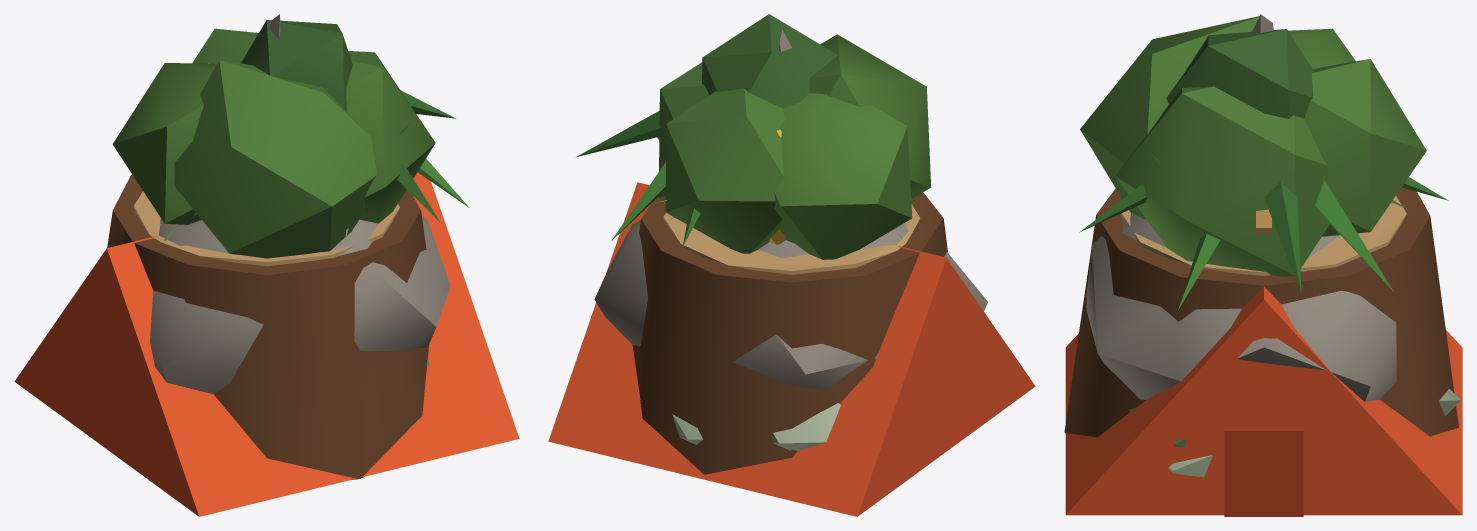
Rendered from scenery-low.glb.
3 views of the same model, side by side, from view 1: azimuth 30°, elevation 25°; view 2: azimuth 150°, elevation 25°; view 3: azimuth 270°, elevation 25° (orthographic). The views are drawn at different scales.
Visible parts, largest first — view 1: oak, tent, stump, rock, palm; view 2: oak, stump, tent, rock, palm, sage; view 3: oak, tent, stump, rock, palm, sage.
Part boxes in pixels (bbox=[...]): oak: bbox=[112, 20, 435, 258]; tent: bbox=[14, 172, 519, 516]; stump: bbox=[107, 174, 429, 480]; rock: bbox=[150, 215, 450, 394]; palm: bbox=[193, 90, 469, 222]; oak: bbox=[658, 14, 931, 259]; stump: bbox=[632, 192, 947, 474]; tent: bbox=[548, 182, 1035, 516]; rock: bbox=[594, 219, 987, 390]; palm: bbox=[576, 110, 786, 247]; sage: bbox=[672, 403, 840, 450]; oak: bbox=[1080, 16, 1426, 276]; tent: bbox=[1065, 286, 1462, 516]; stump: bbox=[1064, 187, 1458, 437]; rock: bbox=[1086, 213, 1396, 401]; palm: bbox=[1079, 177, 1448, 310]; sage: bbox=[1168, 388, 1461, 477].
Bounding box in the file's own units: 1.15 × 1.2 × 1.
